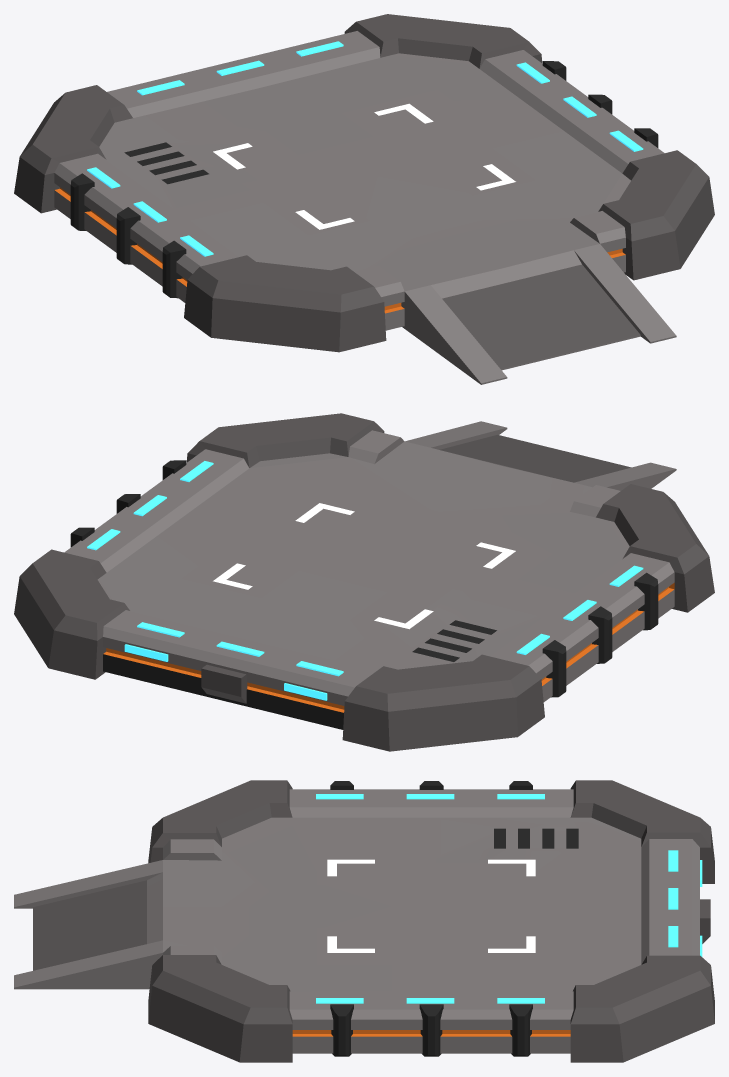
Rendered from scifi_scifi-helipad.fbx.
3 renders of one model, top to bottom at view 1: azimuth 30°, elevation 25°; view 2: azimuth 150°, elevation 25°; view 3: azimuth 270°, elevation 25°, orthographic. The views are drawn at different scales.
Parts seen in each view (by area): view 1: scifi_scifi_helipad; view 2: scifi_scifi_helipad; view 3: scifi_scifi_helipad.
Boxes of the visible parts, left/top/right/bottom form: scifi_scifi_helipad: left=14, top=14, right=714, bottom=384; scifi_scifi_helipad: left=14, top=413, right=714, bottom=751; scifi_scifi_helipad: left=14, top=780, right=714, bottom=1062.
Size of the model in its own units: 162 by 15.32 by 200.
